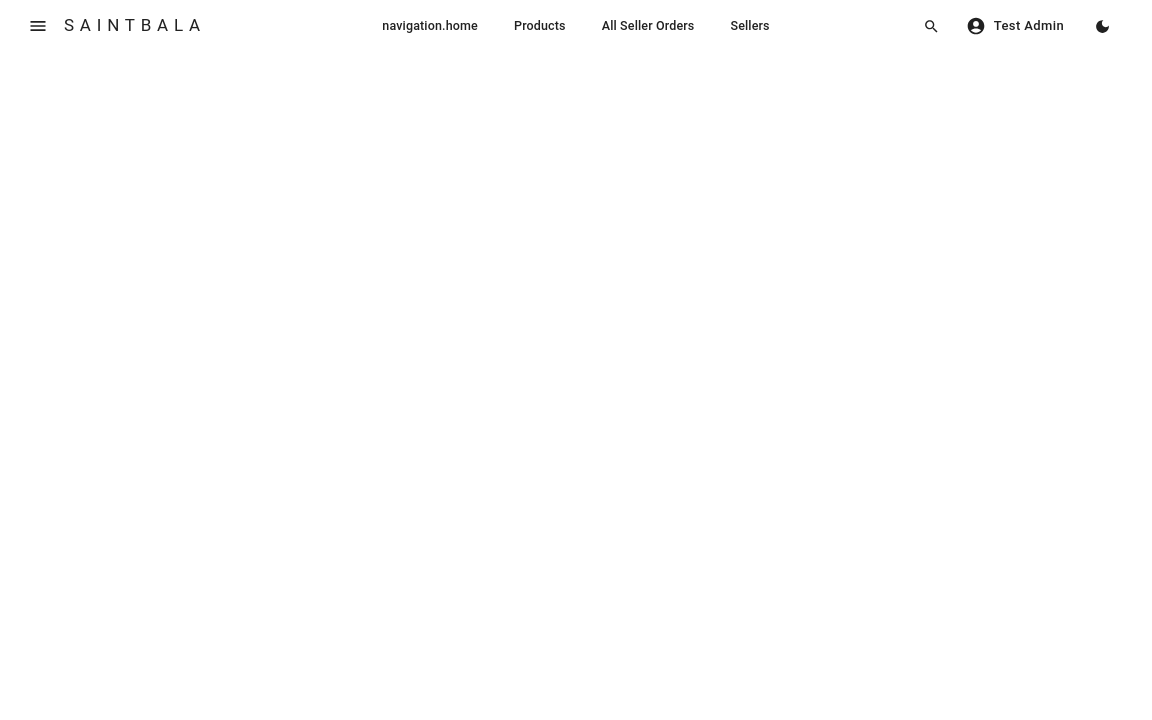
Test case: AdminsHeaderbar › should toggle drawer when menu button is clicked
Expected: the text "Customers" is not shown
Click the button named "menu" at [38, 26], box [20, 8, 56, 44]
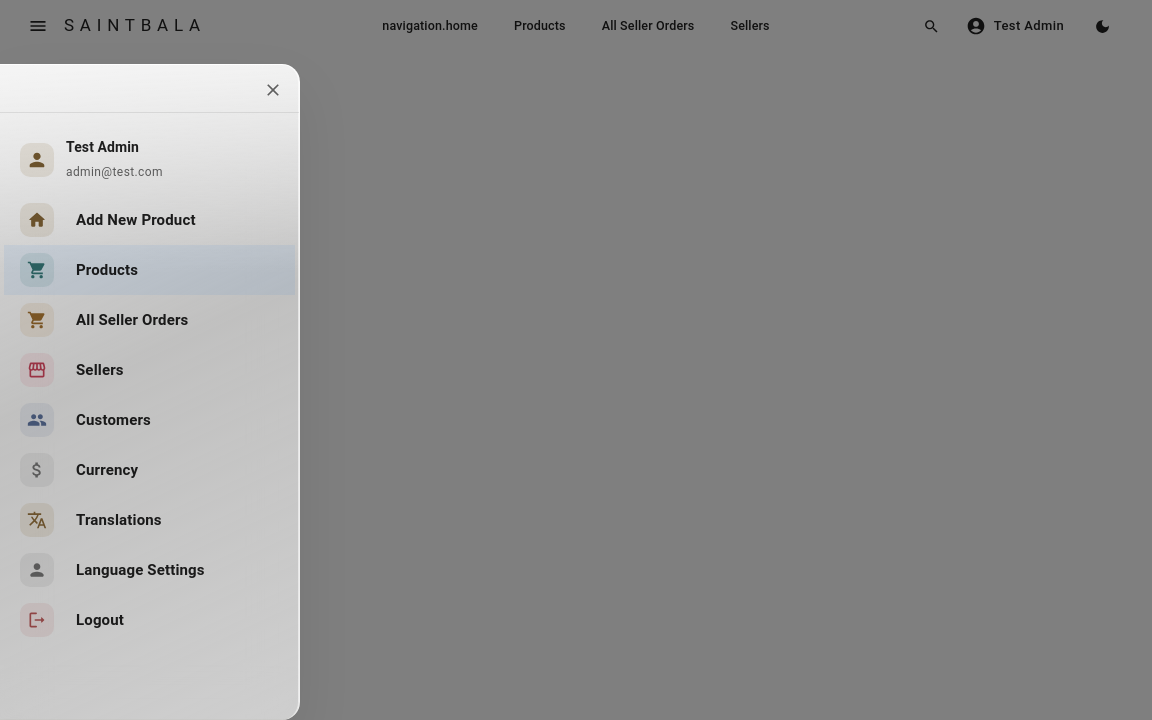
Result: the text "Customers" is shown at [76, 411, 151, 429]
